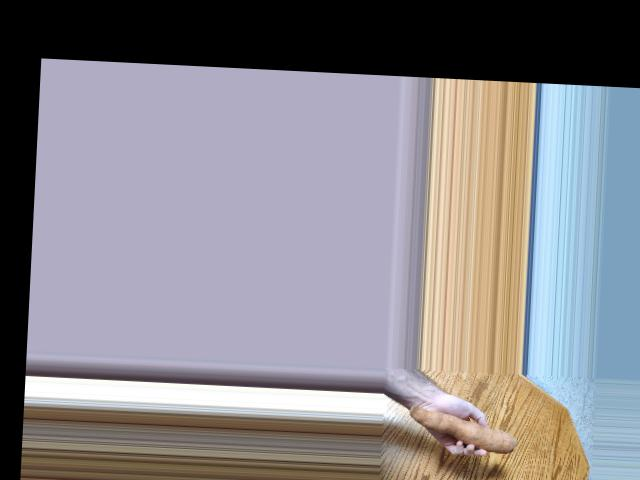sweet_potato: (413, 410, 513, 456)
